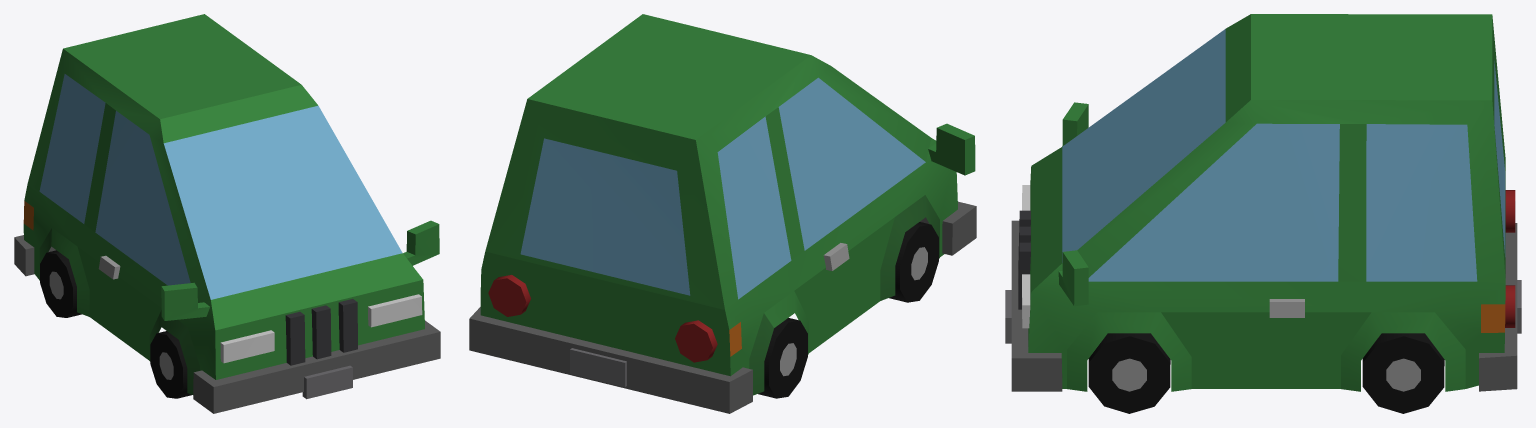
Rendered from Car_12_green.fbx.
The picture shows the model from 3 angles, left to right: view 1: azimuth 30°, elevation 25°; view 2: azimuth 150°, elevation 25°; view 3: azimuth 270°, elevation 25°; orthographic projection. The views are drawn at different scales.
Visible parts, largest first — view 1: Car_12_green; view 2: Car_12_green; view 3: Car_12_green.
Boxes of the visible parts, x1,y1,x2,y2 form: Car_12_green: (14,14,440,413); Car_12_green: (469,14,976,413); Car_12_green: (1005,14,1521,413).
Size of the model in its own units: 57.9 by 46.7 by 75.74.
